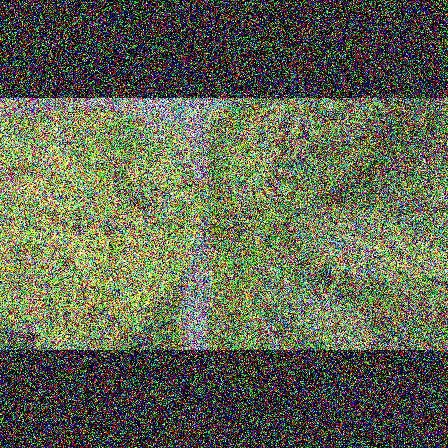Sick: (250, 142, 284, 178)
